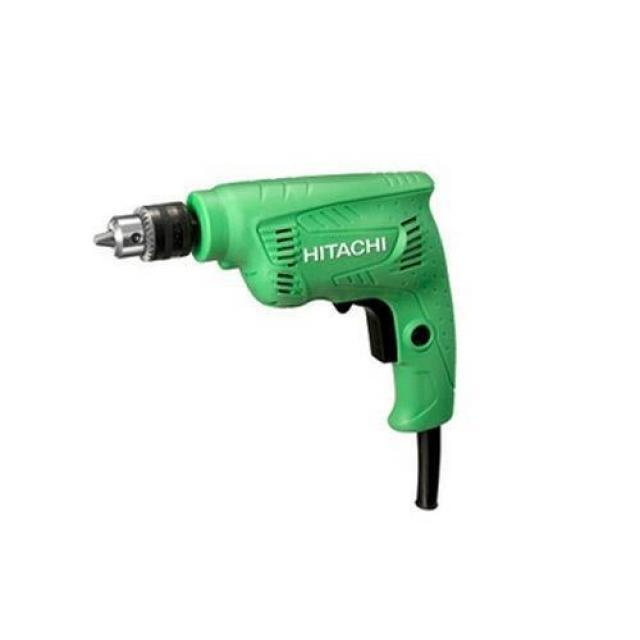drill: (92, 170, 458, 512)
